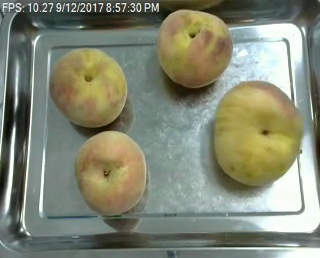Peach: (213, 80, 301, 185), (49, 46, 128, 128), (76, 129, 147, 217), (156, 8, 232, 88)
